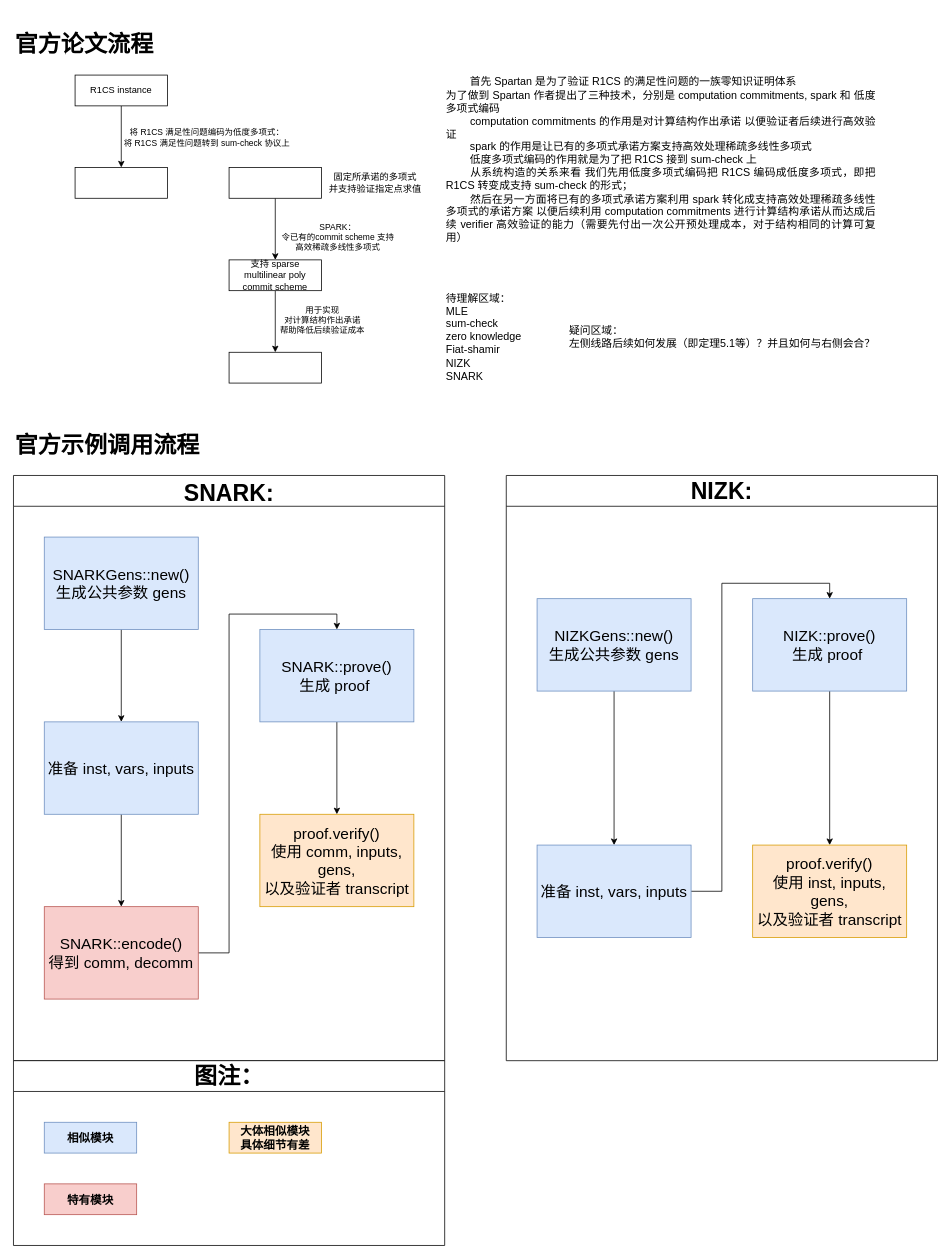
The diagram is 951 pixels wide and 1259 high, and some of its shapes have lost their labels. The shapes that lost their labels are listed below. From the top down, each one's centre as x and y in pixels, then its label:
At pixel 120 182: "A degree-3 multivariate polynomial".
At pixel 274 182: "已有的 Poly commit scheme".
At pixel 274 367: "Computation commitments".
